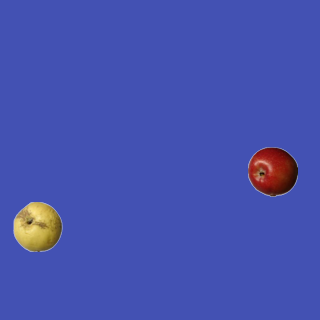Apple Braeburn: (247, 146, 297, 196)
Apple Golden 1: (12, 201, 62, 251)
